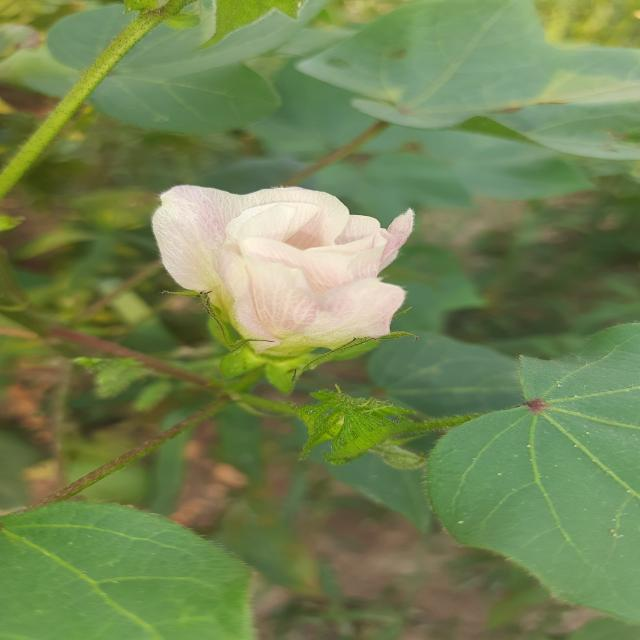Cotton Blossom: (136, 182, 424, 385)
